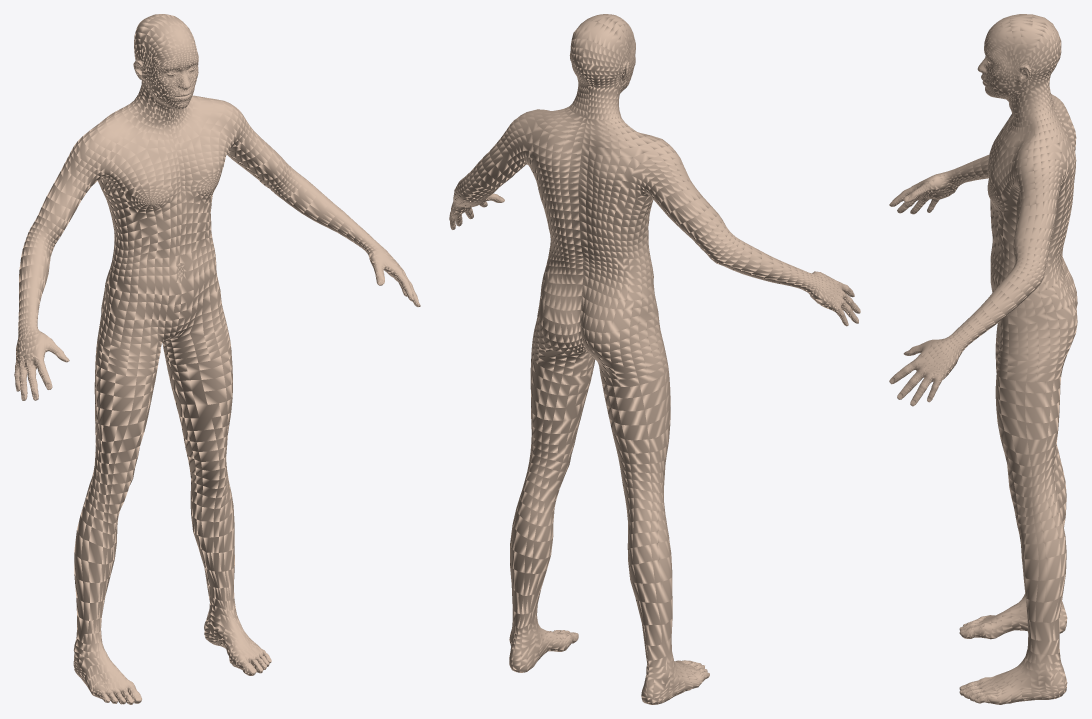
The model's file is male_high_high.glb.
The picture shows the model from 3 angles, left to right: view 1: azimuth 30°, elevation 25°; view 2: azimuth 150°, elevation 25°; view 3: azimuth 270°, elevation 25°; orthographic projection.
Visible parts, largest first — view 1: male_high_highMesh; view 2: male_high_highMesh; view 3: male_high_highMesh.
Part boxes in pixels (box(x1,y1,x2,y2)): male_high_highMesh: box(14, 14, 420, 704); male_high_highMesh: box(449, 14, 860, 704); male_high_highMesh: box(889, 14, 1077, 704).
Size of the model in its own units: 14.37 by 22.49 by 5.91.
